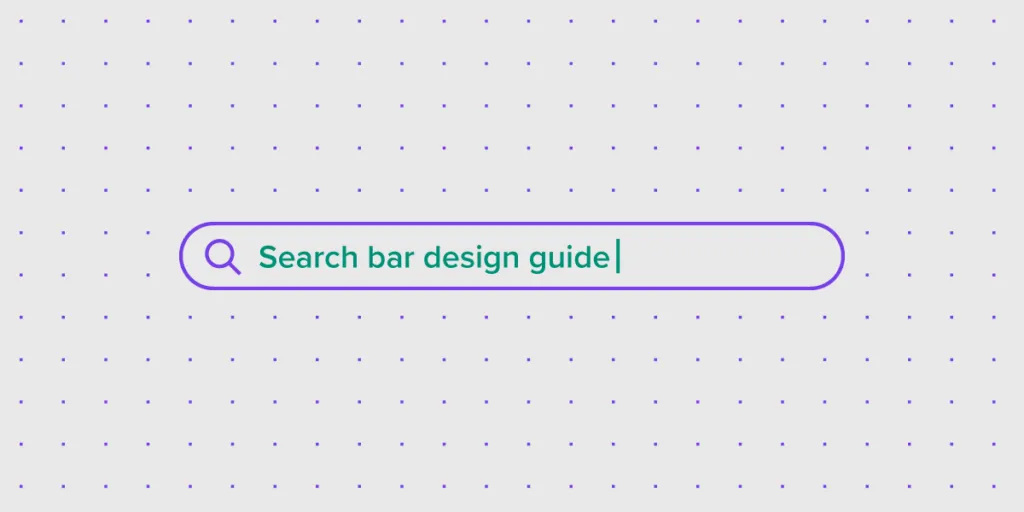search_box: (183, 225, 844, 287)
